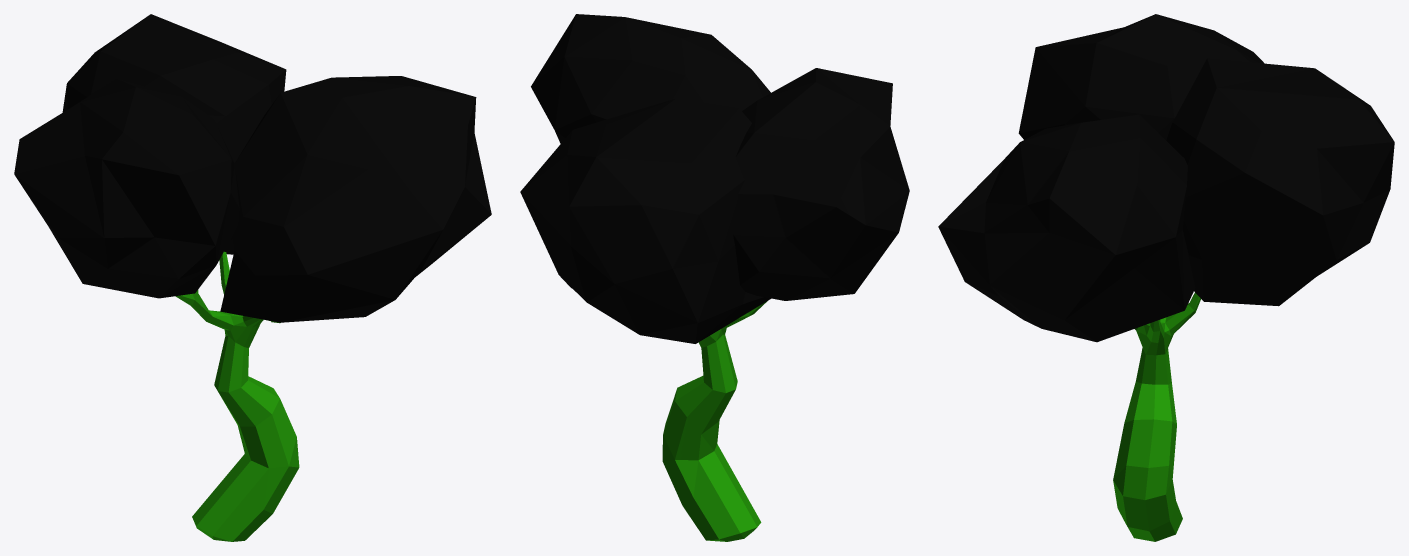
The model's file is Tree02_JT.fbx.
The picture shows the model from 3 angles, left to right: view 1: azimuth 30°, elevation 25°; view 2: azimuth 150°, elevation 25°; view 3: azimuth 270°, elevation 25°; orthographic projection.
Visible parts, largest first — view 1: Tree02_JT; view 2: Tree02_JT; view 3: Tree02_JT.
Part boxes in pixels (<box>): Tree02_JT: <box>14,14,491,541</box>; Tree02_JT: <box>520,14,909,541</box>; Tree02_JT: <box>938,14,1394,541</box>.
Bounding box in the file's own units: 450 × 525 × 457.
